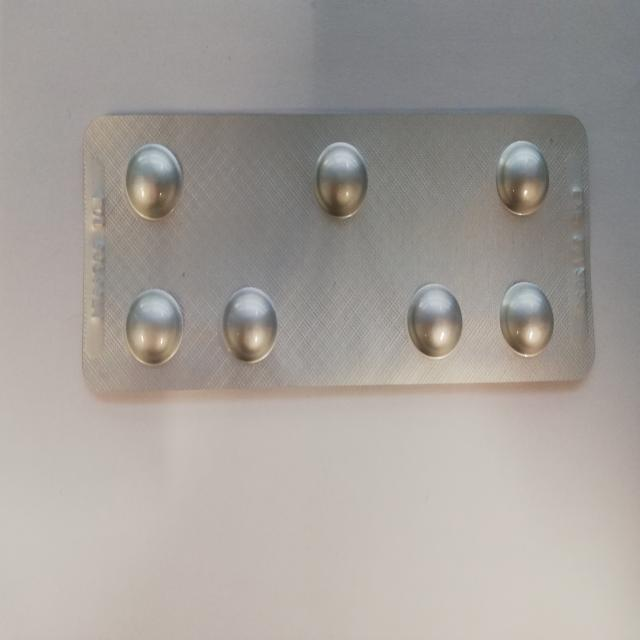Pill: (119, 135, 189, 224), (215, 284, 286, 371), (490, 134, 560, 222), (307, 135, 375, 222), (118, 287, 188, 369), (492, 274, 560, 357), (401, 280, 467, 363)
